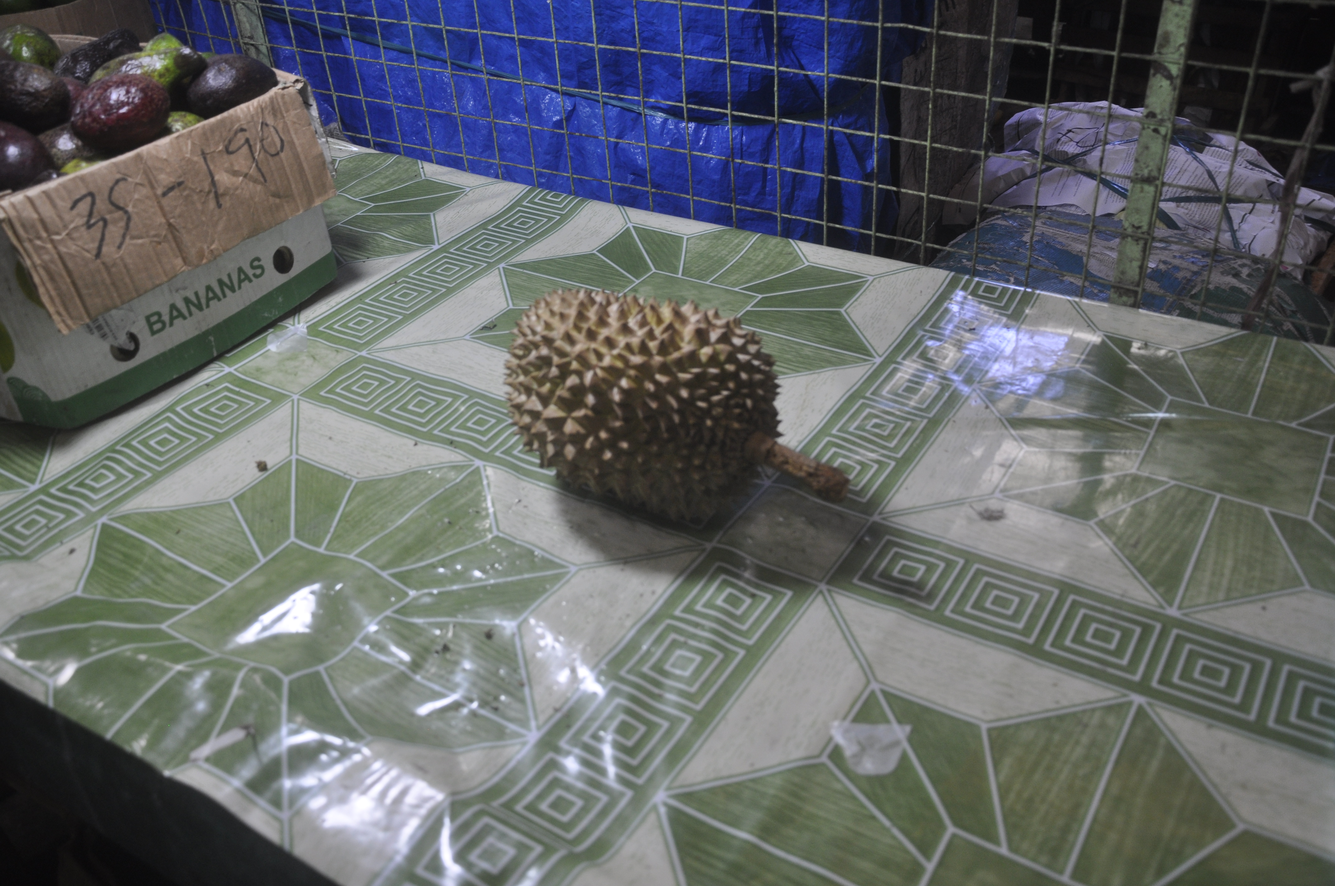mature: (505, 289, 778, 520)
